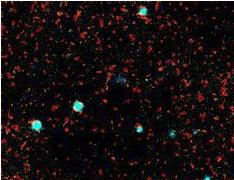star: (131, 60, 161, 90)
